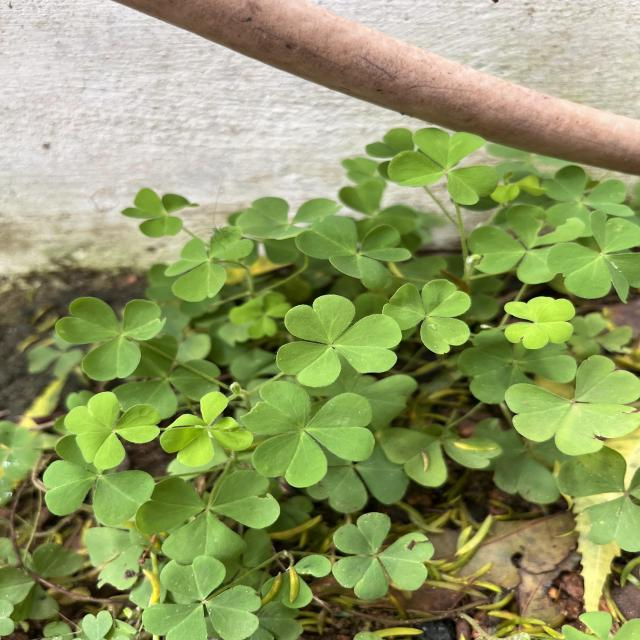Oxalis corniculata: (238, 380, 376, 489), (134, 469, 282, 566), (503, 354, 640, 456), (275, 294, 403, 388), (141, 554, 262, 640), (53, 296, 168, 382), (331, 510, 435, 601), (384, 126, 499, 207), (545, 208, 640, 304), (294, 214, 412, 280), (64, 391, 162, 470), (158, 391, 254, 467), (164, 225, 255, 303), (381, 278, 472, 355), (120, 187, 200, 239), (503, 296, 576, 350)
